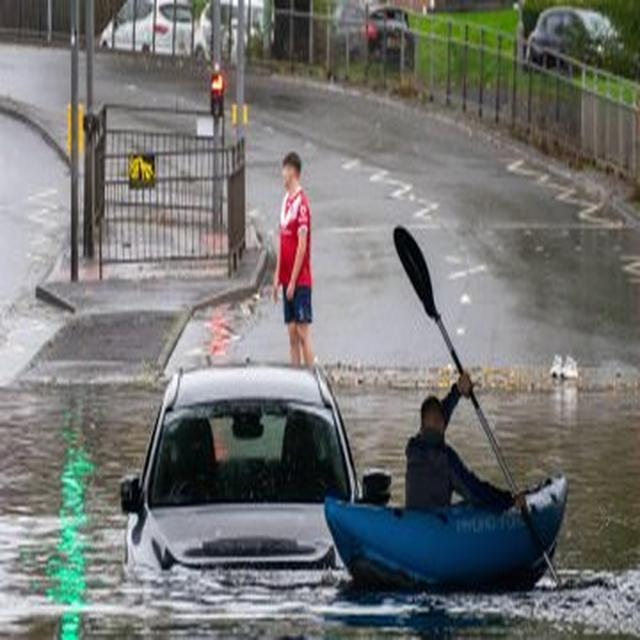Car-RiskLevel3: (112, 338, 385, 593)
Person-RiskLevel3: (387, 355, 557, 542), (260, 146, 340, 382)
